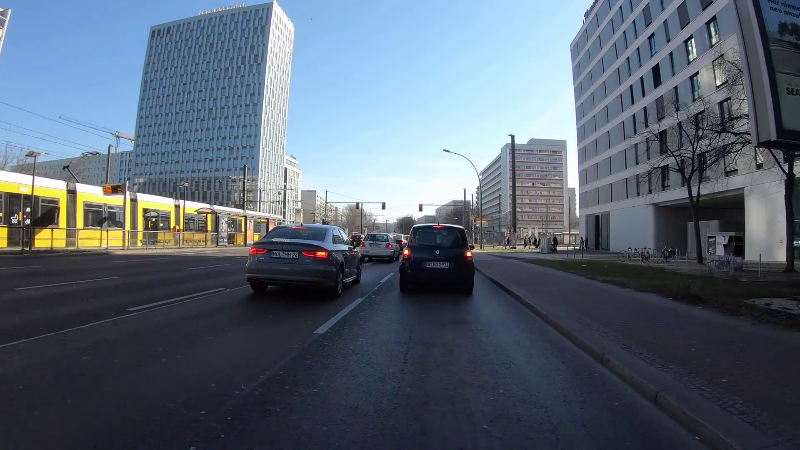Plate: (267, 248, 302, 260), (422, 261, 451, 268)
